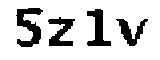1: (84, 6, 114, 51)
5: (11, 5, 45, 50)
v: (115, 13, 149, 50)
z: (46, 15, 81, 50)
